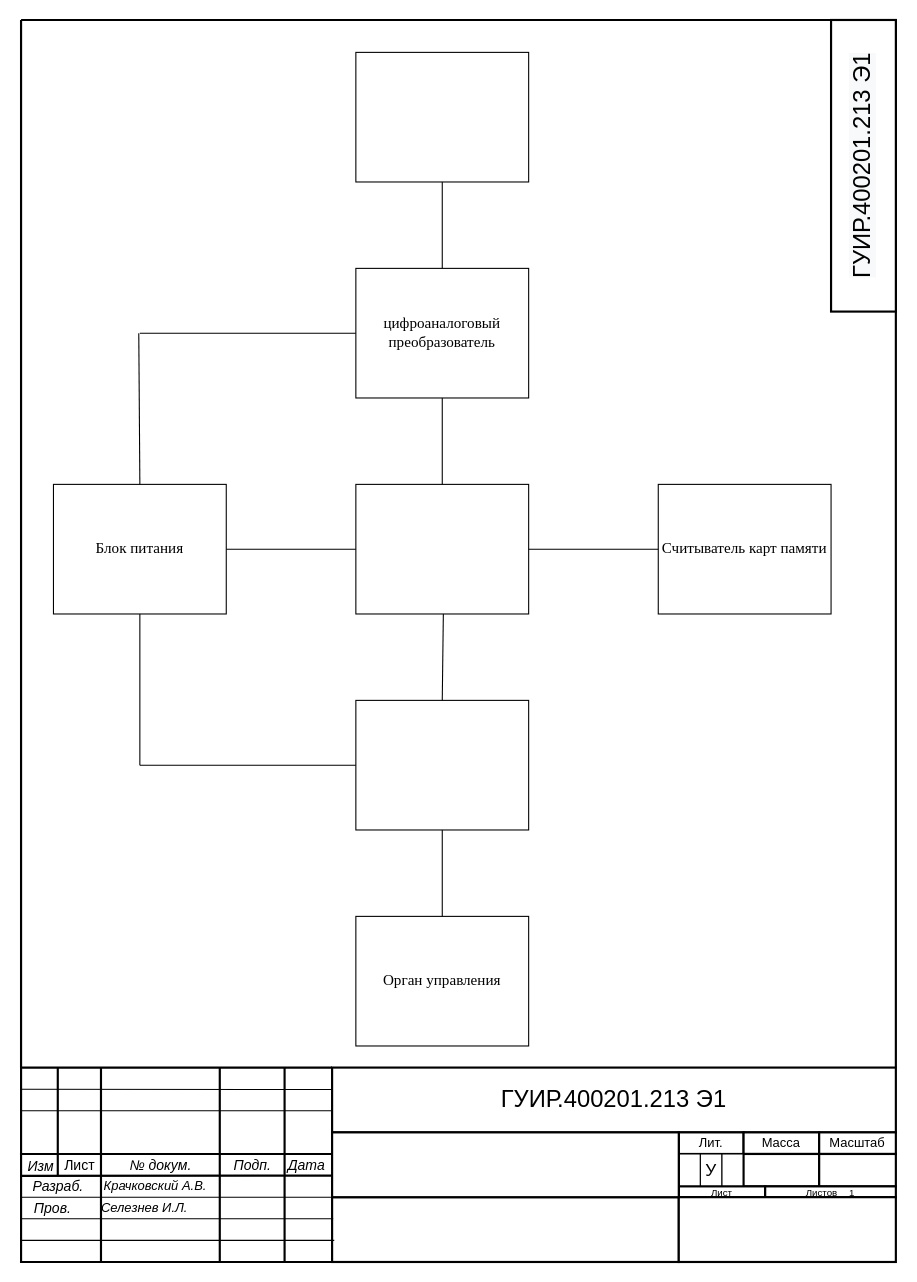
This 917x1282 diagram has some shape labels left out. The shapes that lost their labels are listed below. From the top down, each one's centre as x and y in pixels, then its label:
the point at 442,116: Аудио адаптер
the point at 442,548: Микроконтроллер 2 (Обработчик звуковых фалойв)
the point at 442,764: Микроконтроллер 1 (управление устройства)
the point at 504,1164: Микроконтроллерное устройство синхронизированного вывода звуков
the point at 786,1229: ЭВМ, гр 050502
